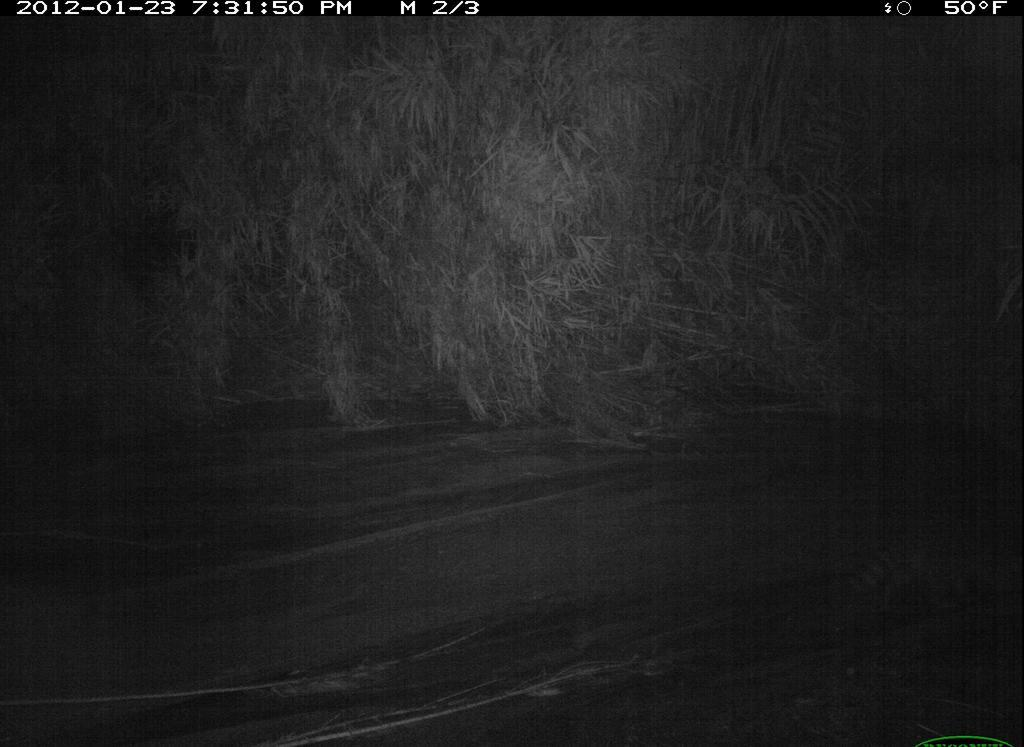raccoon: (834, 513, 1023, 643)
